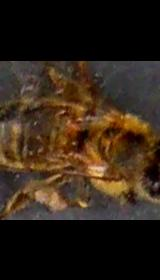varroa_mite: (62, 125, 92, 154)
